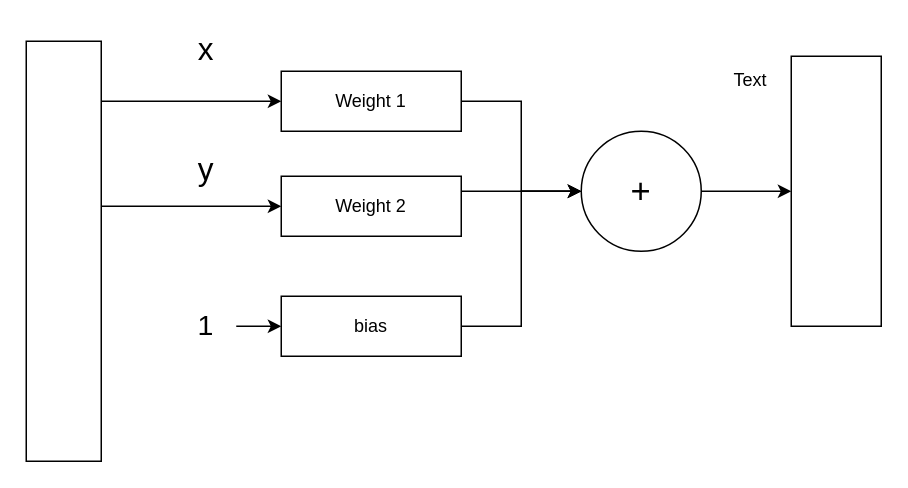
Image size: 908x488. Some labels were removed from this diagram. Each missing label, with the centre of its shape:
Input: the point at 63,250
Tan hyperbolic: the point at 835,190
